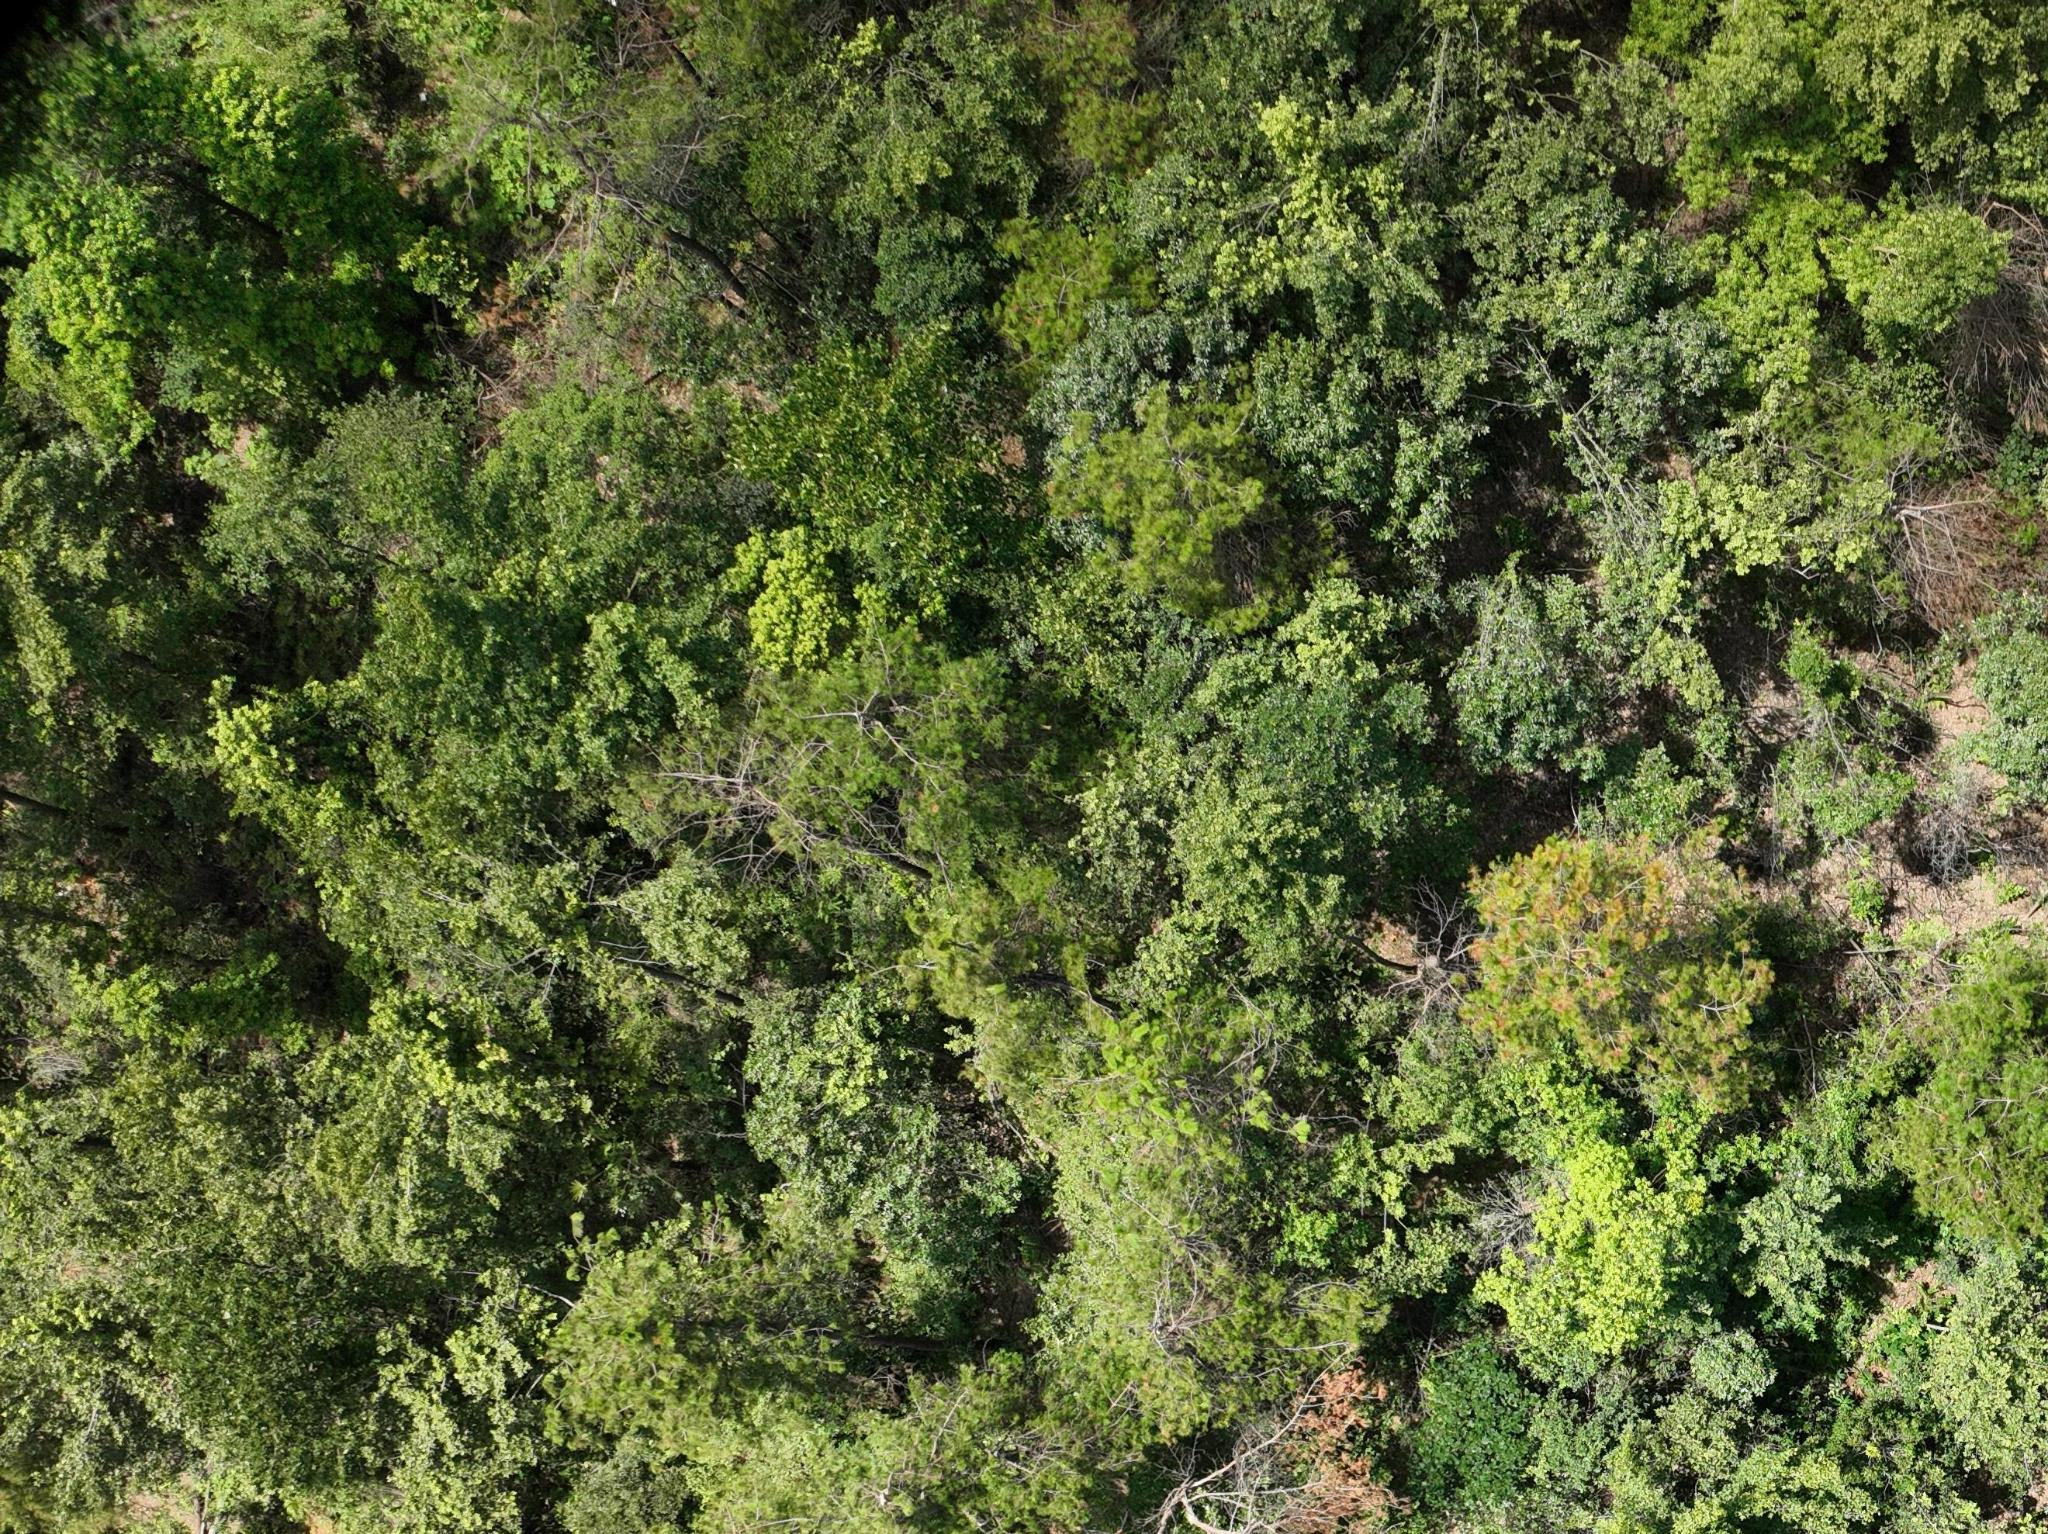heavy: (1204, 1362, 1415, 1528), (1887, 475, 2025, 638)
light: (1450, 828, 1766, 1118)
